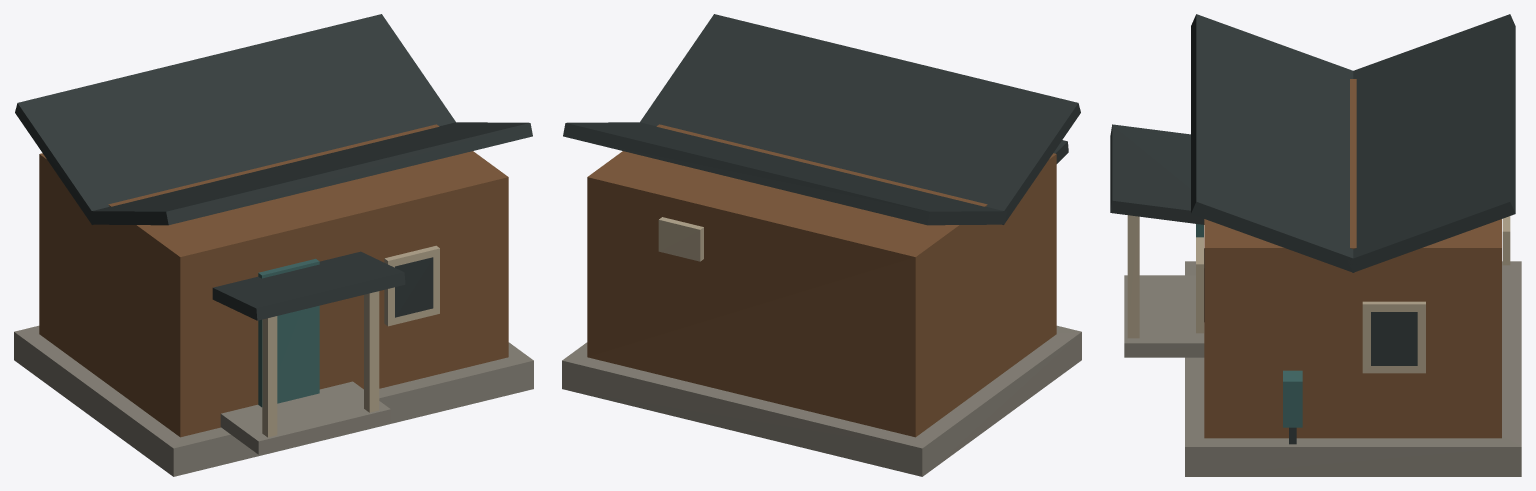
File: Worker-Cabin.glb
3 renders of one model, left to right at view 1: azimuth 30°, elevation 25°; view 2: azimuth 150°, elevation 25°; view 3: azimuth 270°, elevation 25°, orthographic. The views are drawn at different scales.
Parts seen in each view (by area): view 1: worker-cabin-static-worker-cabin-warm-board-walls, worker-cabin-static-worker-cabin-charcoal-roof, worker-cabin-static-worker-cabin-pale-foundation, worker-cabin-static-worker-cabin-pale-trim, worker-cabin-static-worker-cabin-muted-teal-fixtures; view 2: worker-cabin-static-worker-cabin-warm-board-walls, worker-cabin-static-worker-cabin-charcoal-roof, worker-cabin-static-worker-cabin-pale-foundation, worker-cabin-static-worker-cabin-pale-trim; view 3: worker-cabin-static-worker-cabin-charcoal-roof, worker-cabin-static-worker-cabin-warm-board-walls, worker-cabin-static-worker-cabin-pale-foundation, worker-cabin-static-worker-cabin-pale-trim, worker-cabin-static-worker-cabin-muted-teal-fixtures.
Boxes of the visible parts, box(x1,y1,x2,y2) form: worker-cabin-static-worker-cabin-warm-board-walls: box(39, 124, 508, 437); worker-cabin-static-worker-cabin-charcoal-roof: box(15, 14, 532, 320); worker-cabin-static-worker-cabin-pale-foundation: box(14, 325, 533, 476); worker-cabin-static-worker-cabin-pale-trim: box(262, 245, 439, 437); worker-cabin-static-worker-cabin-muted-teal-fixtures: box(258, 258, 319, 407); worker-cabin-static-worker-cabin-warm-board-walls: box(587, 124, 1056, 437); worker-cabin-static-worker-cabin-charcoal-roof: box(563, 14, 1080, 225); worker-cabin-static-worker-cabin-pale-foundation: box(562, 325, 1081, 476); worker-cabin-static-worker-cabin-pale-trim: box(658, 217, 703, 261); worker-cabin-static-worker-cabin-charcoal-roof: box(1110, 14, 1515, 444); worker-cabin-static-worker-cabin-warm-board-walls: box(1204, 79, 1501, 438); worker-cabin-static-worker-cabin-pale-foundation: box(1124, 261, 1521, 476); worker-cabin-static-worker-cabin-pale-trim: box(1127, 215, 1510, 373); worker-cabin-static-worker-cabin-muted-teal-fixtures: box(1196, 224, 1302, 427).
Bounding box in the file's own units: 4.6 × 3.12 × 4.21.
